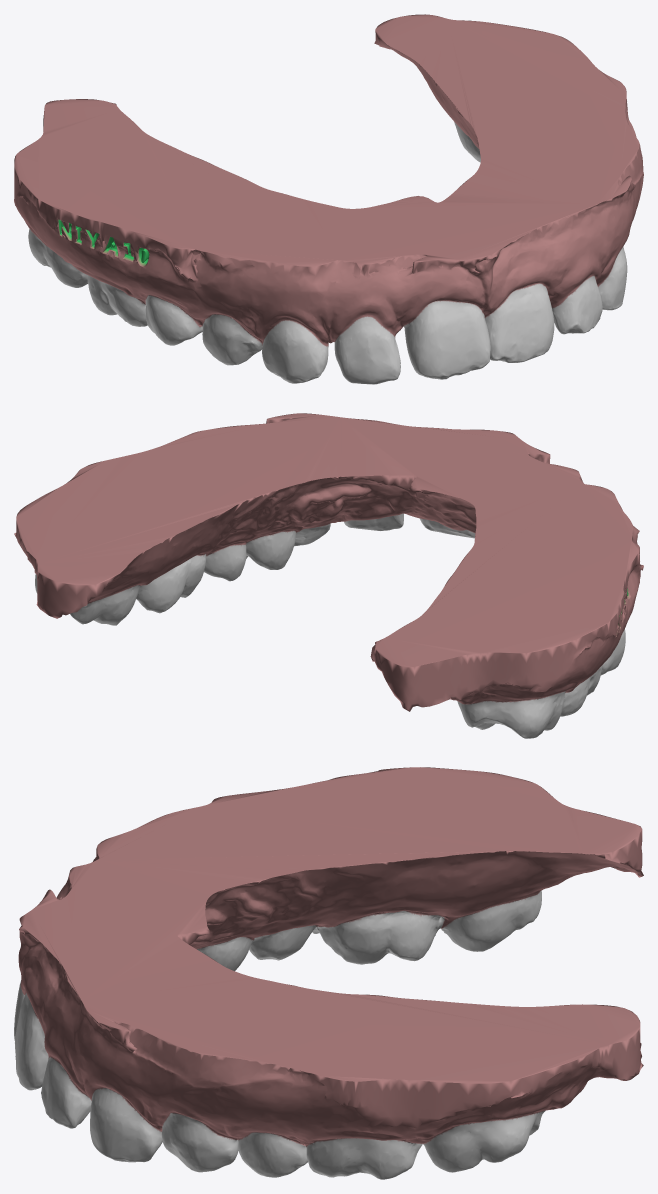
File: Niya Priority Upper jaw - 10 - Model.glb
3 views of the same model, one above another, from view 1: azimuth 30°, elevation 25°; view 2: azimuth 150°, elevation 25°; view 3: azimuth 270°, elevation 25° (orthographic). The views are drawn at different scales.
Visible parts, largest first — view 1: Niya Priority Upper jaw - 10 - Model; view 2: Niya Priority Upper jaw - 10 - Model; view 3: Niya Priority Upper jaw - 10 - Model.
Boxes of the visible parts, bbox=[...] form: Niya Priority Upper jaw - 10 - Model: bbox=[14, 14, 643, 384]; Niya Priority Upper jaw - 10 - Model: bbox=[14, 413, 643, 738]; Niya Priority Upper jaw - 10 - Model: bbox=[14, 767, 643, 1179].
Size of the model in its own units: 66.35 by 13.72 by 55.77.
